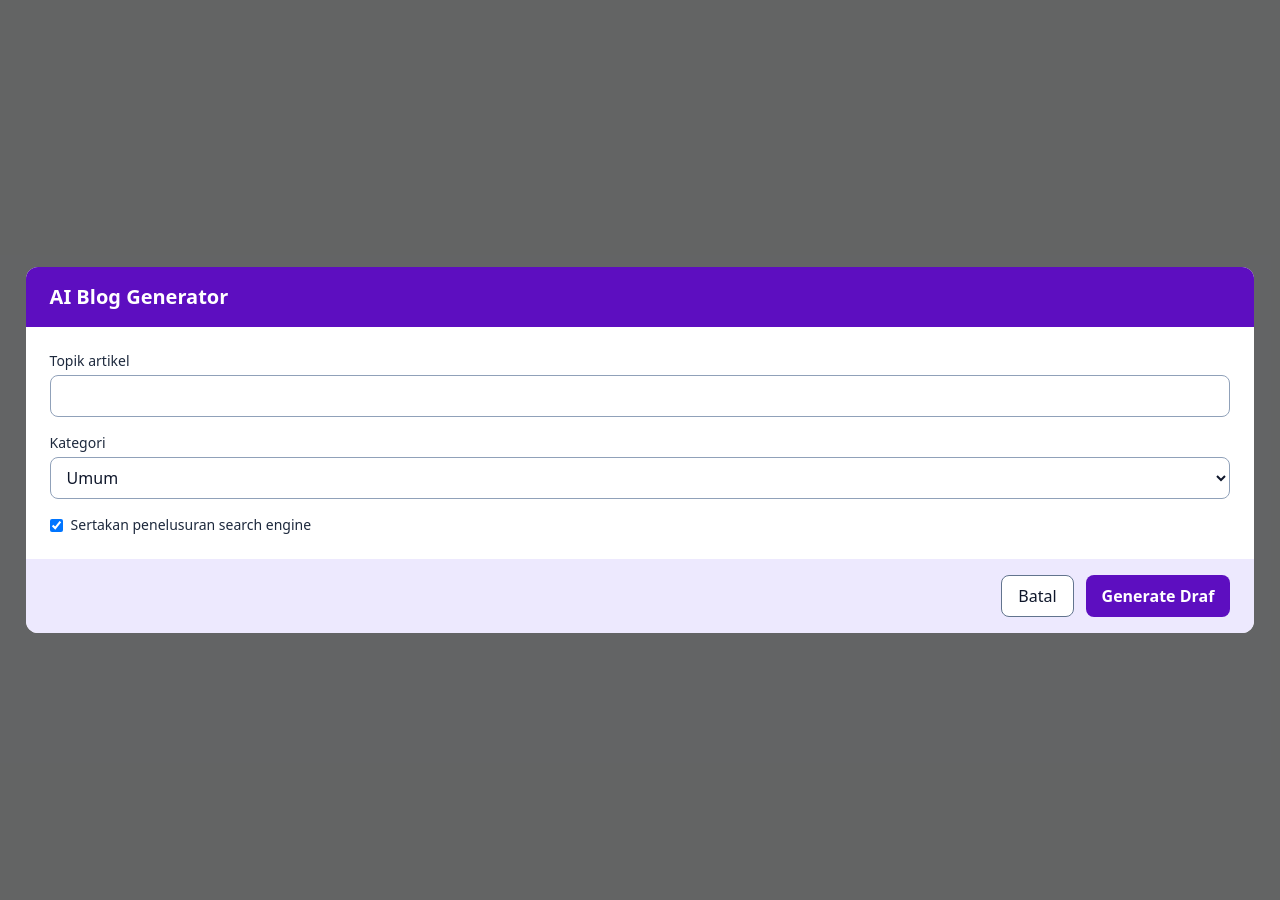
it: AiPostGeneratorModal › draf dengan daftar sumber kosong tidak menampilkan bagian sumber
Step 1. Type "AI" into the field labelled "Topik artikel" → (640, 396), box [50, 375, 1230, 417]
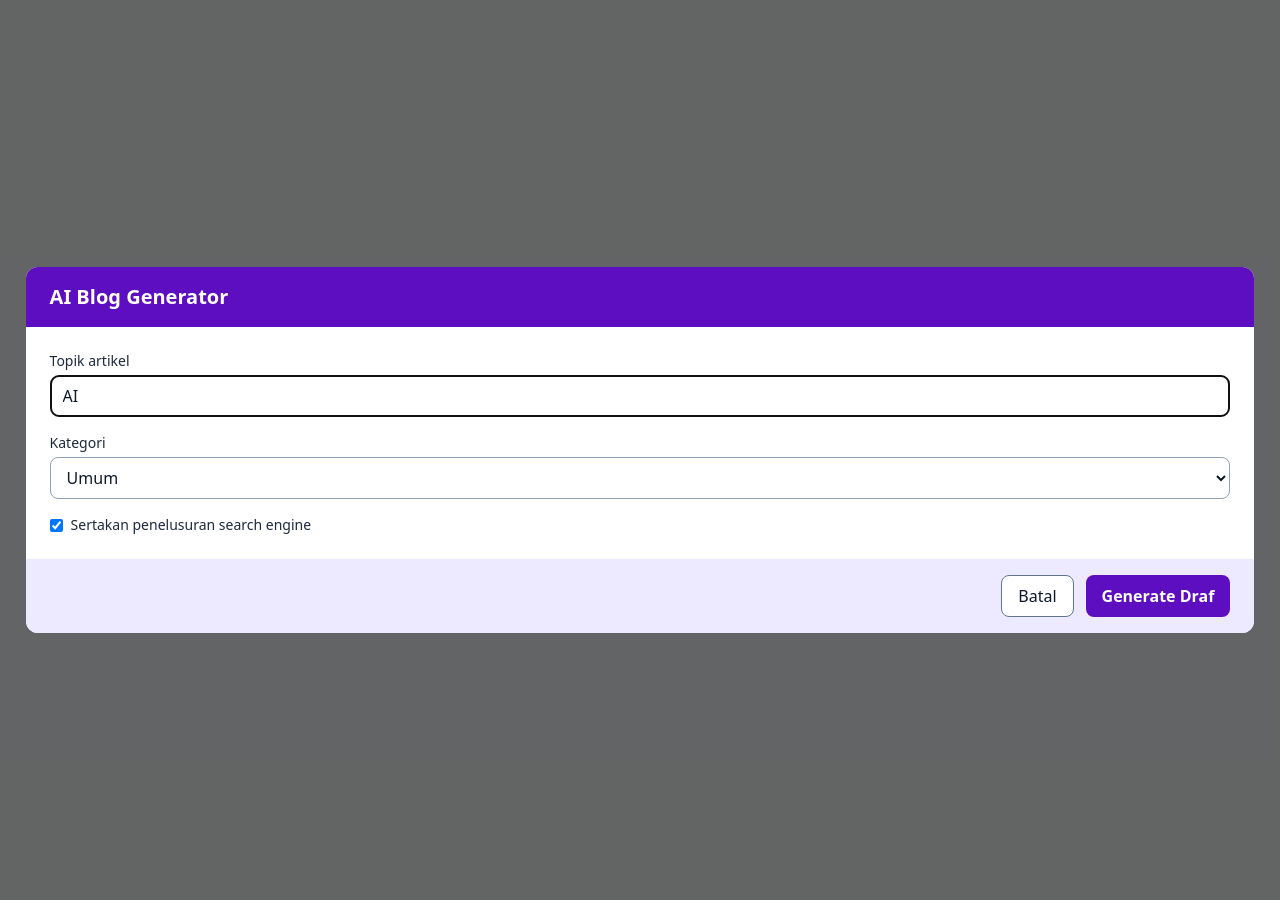
Step 2. Click the button "Generate Draf" → (1158, 596), box [1086, 575, 1230, 617]
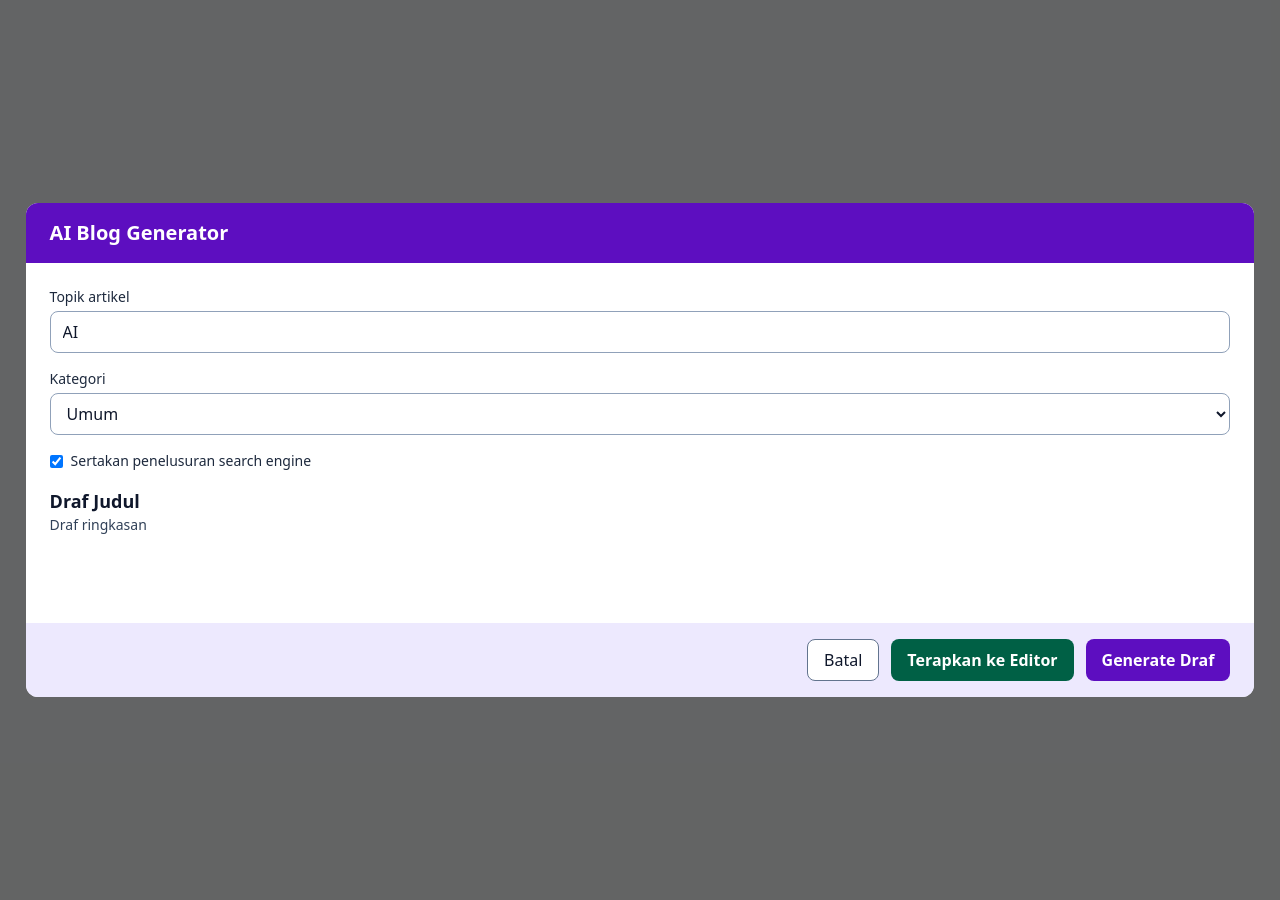
Check: the heading "Draf Judul" is shown, box [50, 489, 140, 513]
